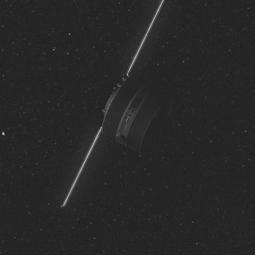double_start: (92, 57, 181, 159)
